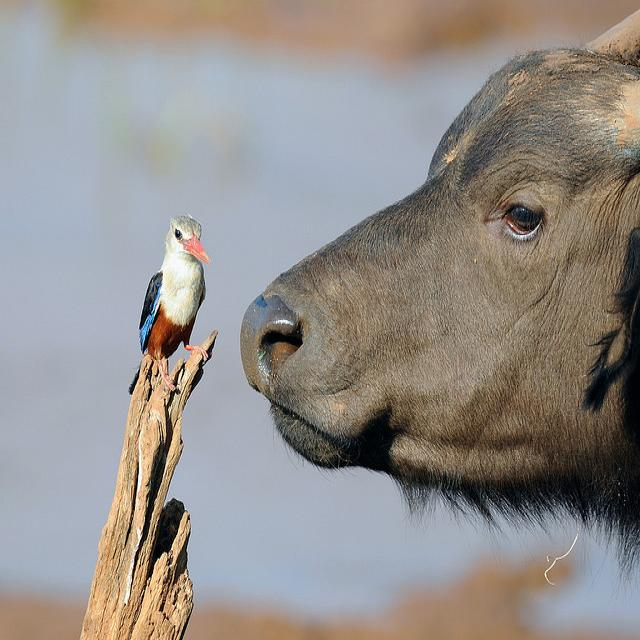cow: (242, 6, 638, 544)
